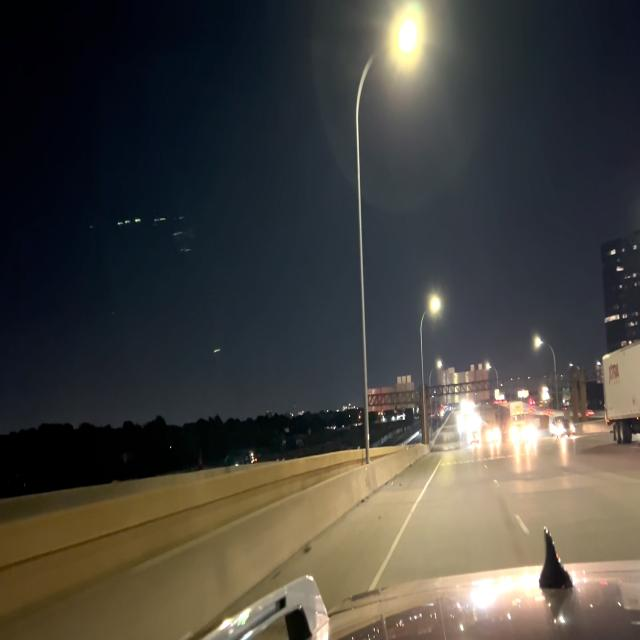back-of-sign: (436, 363, 490, 405), (367, 372, 417, 415)
